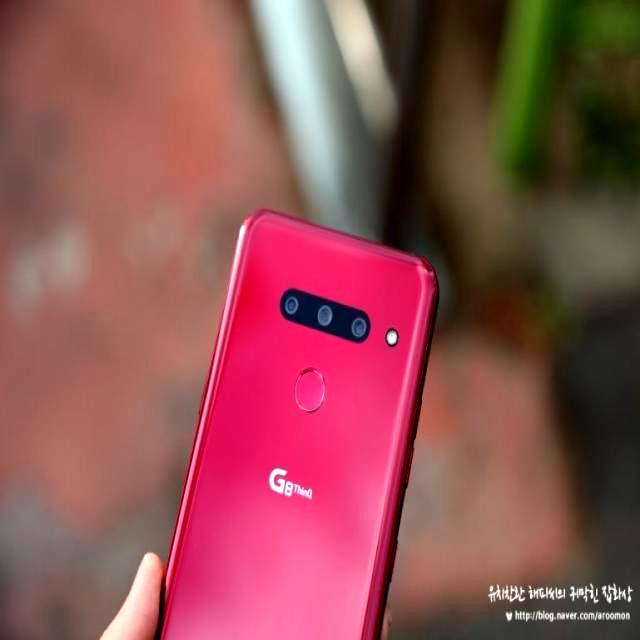lens_back: (348, 312, 371, 344), (313, 304, 335, 328), (282, 290, 299, 317)
phone: (151, 208, 442, 640)
